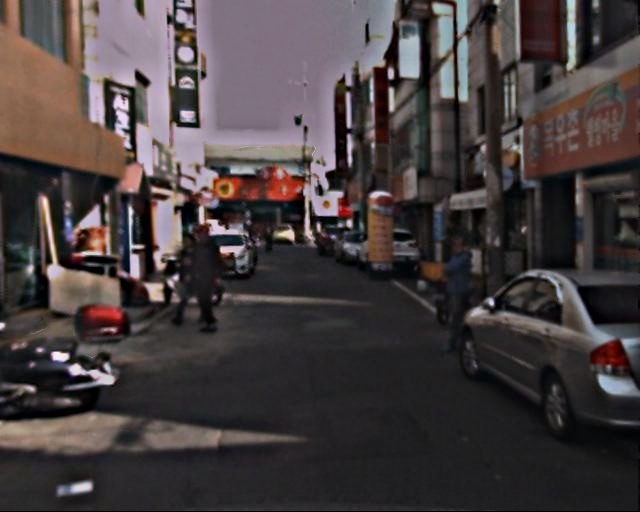person: (434, 240, 484, 354), (182, 220, 231, 332), (175, 231, 213, 322), (263, 221, 279, 255)
